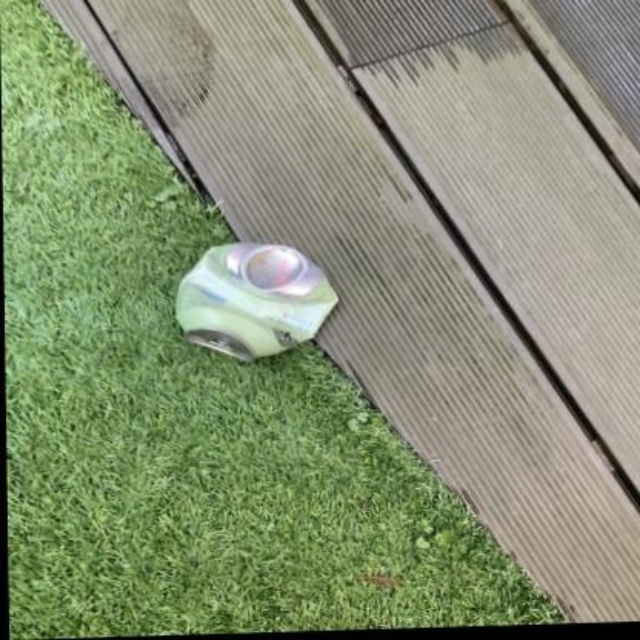trash: (175, 243, 337, 360)
